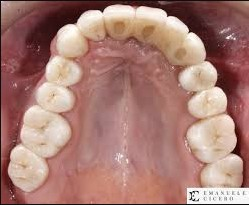UL1BC_healthy: (47, 56, 82, 87)
UL1M_healthy: (23, 109, 71, 156)
UL2BC_healthy: (39, 84, 78, 111)
UL2M_healthy: (10, 146, 49, 188)
ULCI_decay: (105, 4, 133, 39)
ULC_healthy: (56, 23, 90, 56)
ULLI_healthy: (79, 9, 106, 41)
UR1BC_healthy: (180, 64, 216, 89)
UR1M_healthy: (189, 118, 237, 160), (202, 161, 244, 189)
UR2BC_healthy: (188, 89, 228, 116)
URCI_decay: (134, 6, 165, 44)
URC_decay: (180, 37, 206, 67)
URLI_healthy: (164, 18, 182, 51)
